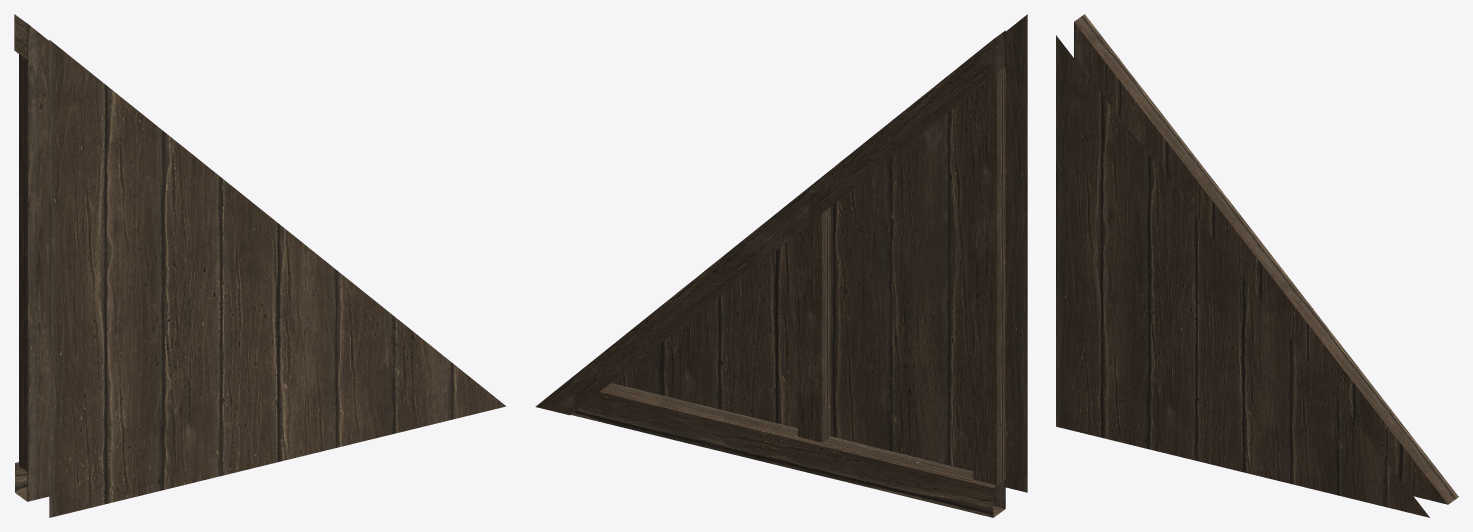
Rendered from ARC1010334.fbx.
3 views of the same model, side by side, from view 1: azimuth 30°, elevation 25°; view 2: azimuth 150°, elevation 25°; view 3: azimuth 330°, elevation 25° (orthographic). The views are drawn at different scales.
Parts seen in each view (by area): view 1: smARC1010334; view 2: smARC1010334; view 3: smARC1010334.
Boxes of the visible parts, bbox=[...] form: smARC1010334: bbox=[14, 14, 506, 517]; smARC1010334: bbox=[535, 14, 1027, 517]; smARC1010334: bbox=[1056, 14, 1458, 517].
Size of the model in its own units: 268 by 268 by 35.62.
Materials: 1 (1 with a texture image).
